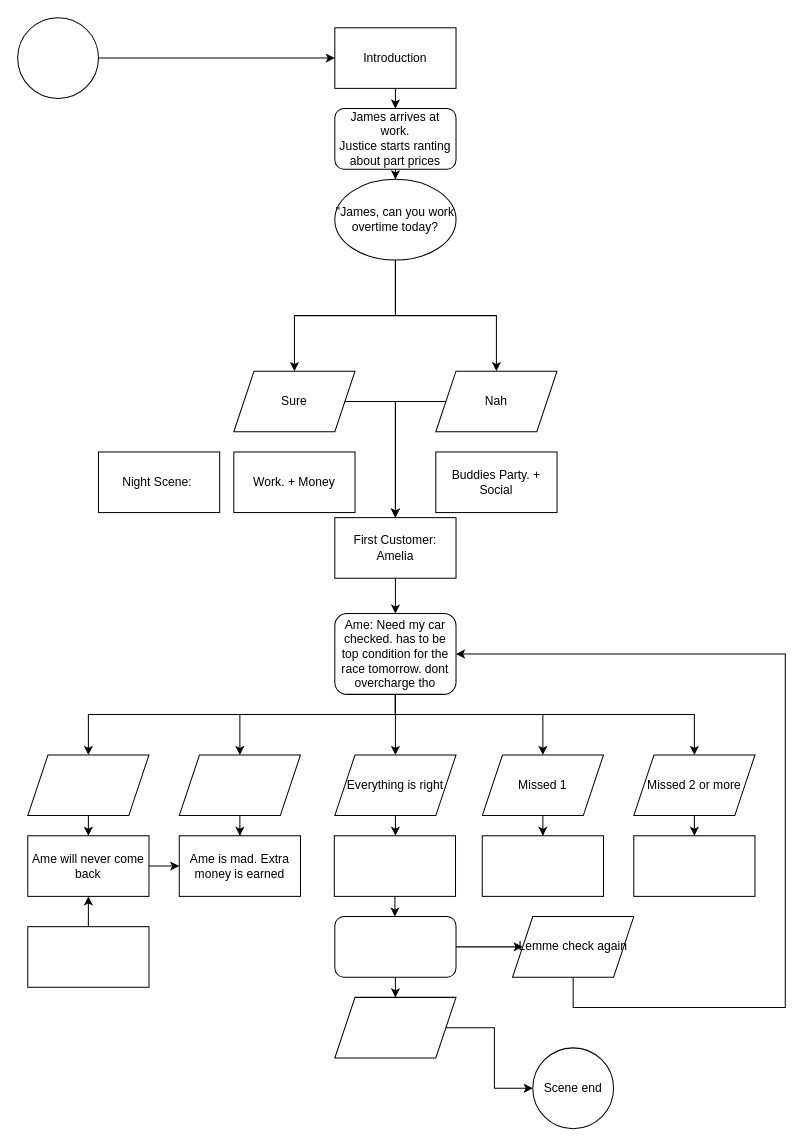
This 811x1146 diagram has some shape labels left out. The centre of each missing label's shape, as x and y in pixels:
Ame fucking dies: the point at 694,865
Ame loses due to a small crash: the point at 542,865
Ame wins the race. wants james to be her new mechanic permanently: the point at 394,865
Ame: you sure?: the point at 395,946
Overcharge 1: the point at 239,785
Overcharge 2: the point at 88,785
Scene start: the point at 57,57
Tuesday Scene:: the point at 88,956
Yes.: the point at 395,1027
